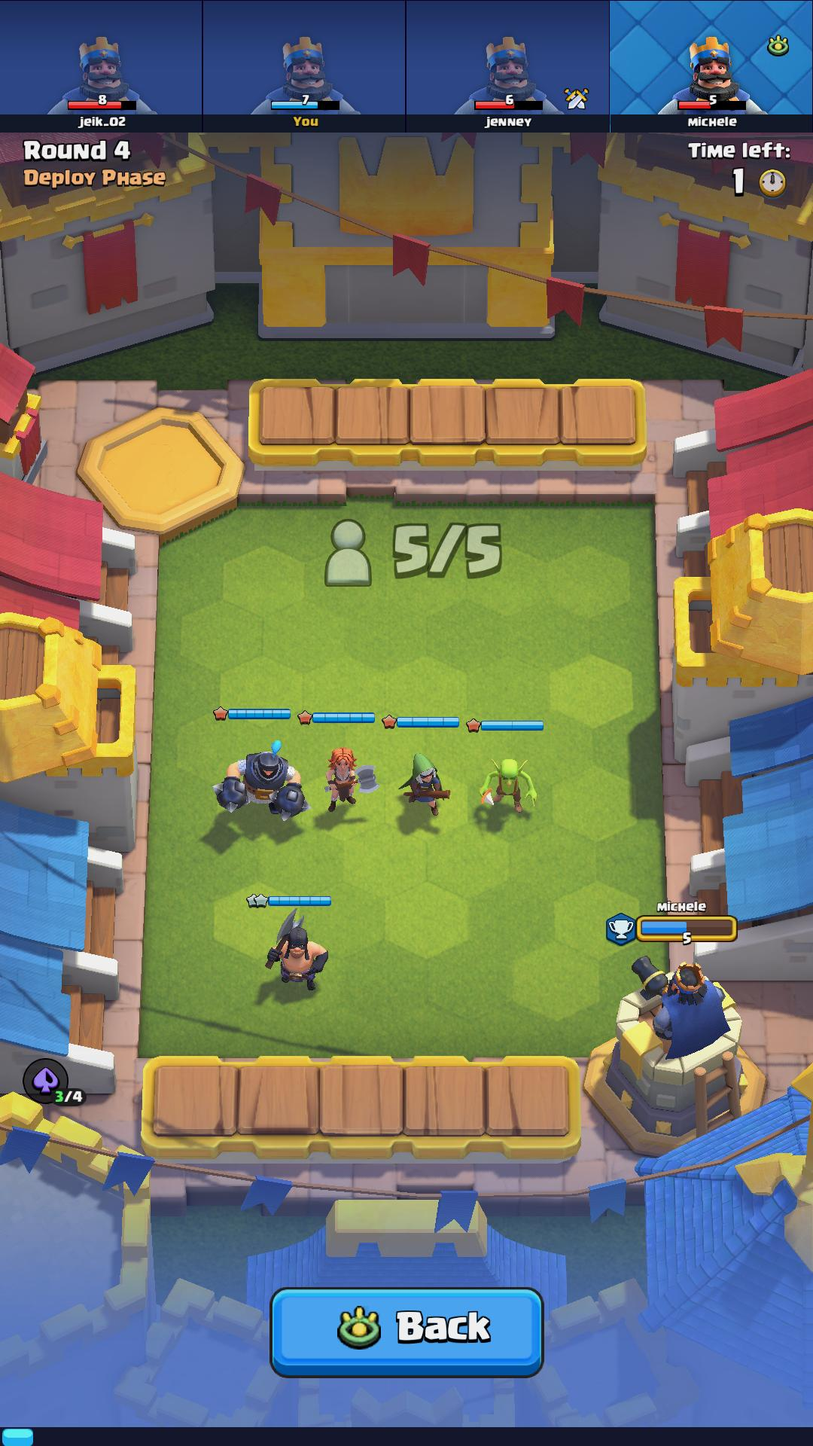bandit: (394, 742, 443, 821)
executioner: (256, 913, 331, 993)
goblin: (469, 744, 542, 820)
mega: (211, 732, 310, 826)
valkyrie: (321, 734, 375, 821)
